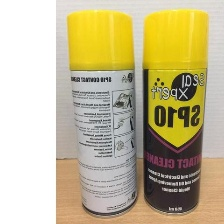aerosol_cans: (62, 5, 140, 221), (138, 5, 212, 219)
